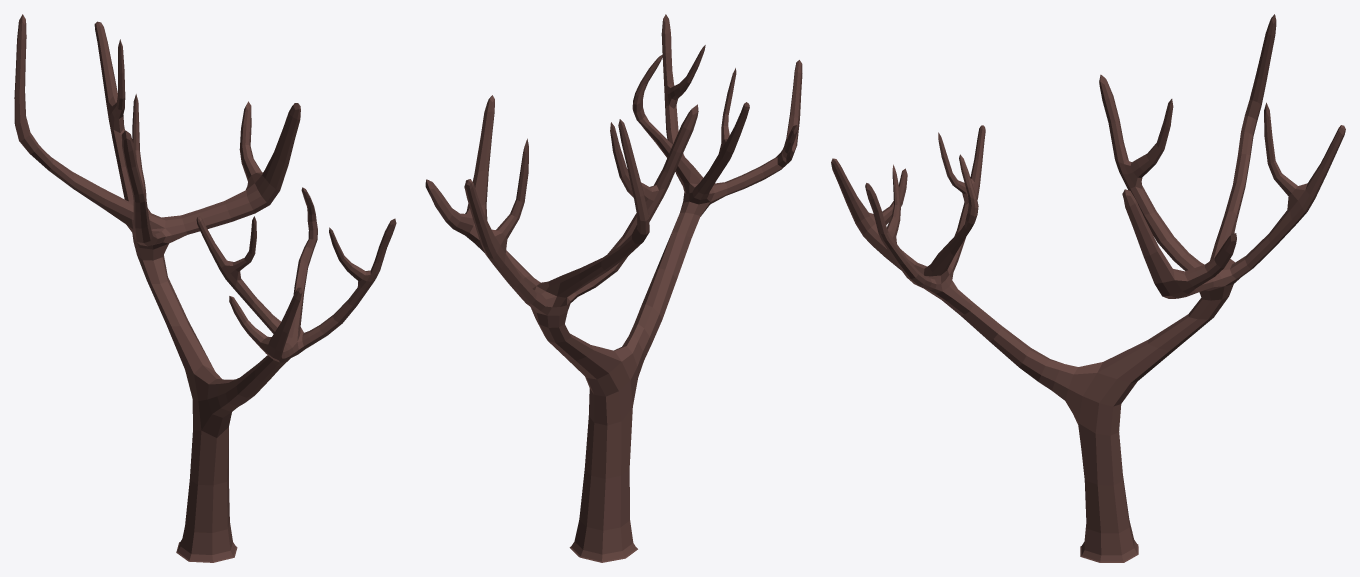
File: CommonTree_Dead_1.gltf
3 renders of one model, left to right at view 1: azimuth 30°, elevation 25°; view 2: azimuth 150°, elevation 25°; view 3: azimuth 270°, elevation 25°, orthographic. The views are drawn at different scales.
Parts seen in each view (by area): view 1: CommonTree_Dead_1; view 2: CommonTree_Dead_1; view 3: CommonTree_Dead_1.
Boxes of the visible parts, x1,y1,x2,y2 form: CommonTree_Dead_1: (14,14,396,562); CommonTree_Dead_1: (425,14,802,562); CommonTree_Dead_1: (831,14,1345,562).
Size of the model in its own units: 1.04 by 2.22 by 2.12.
